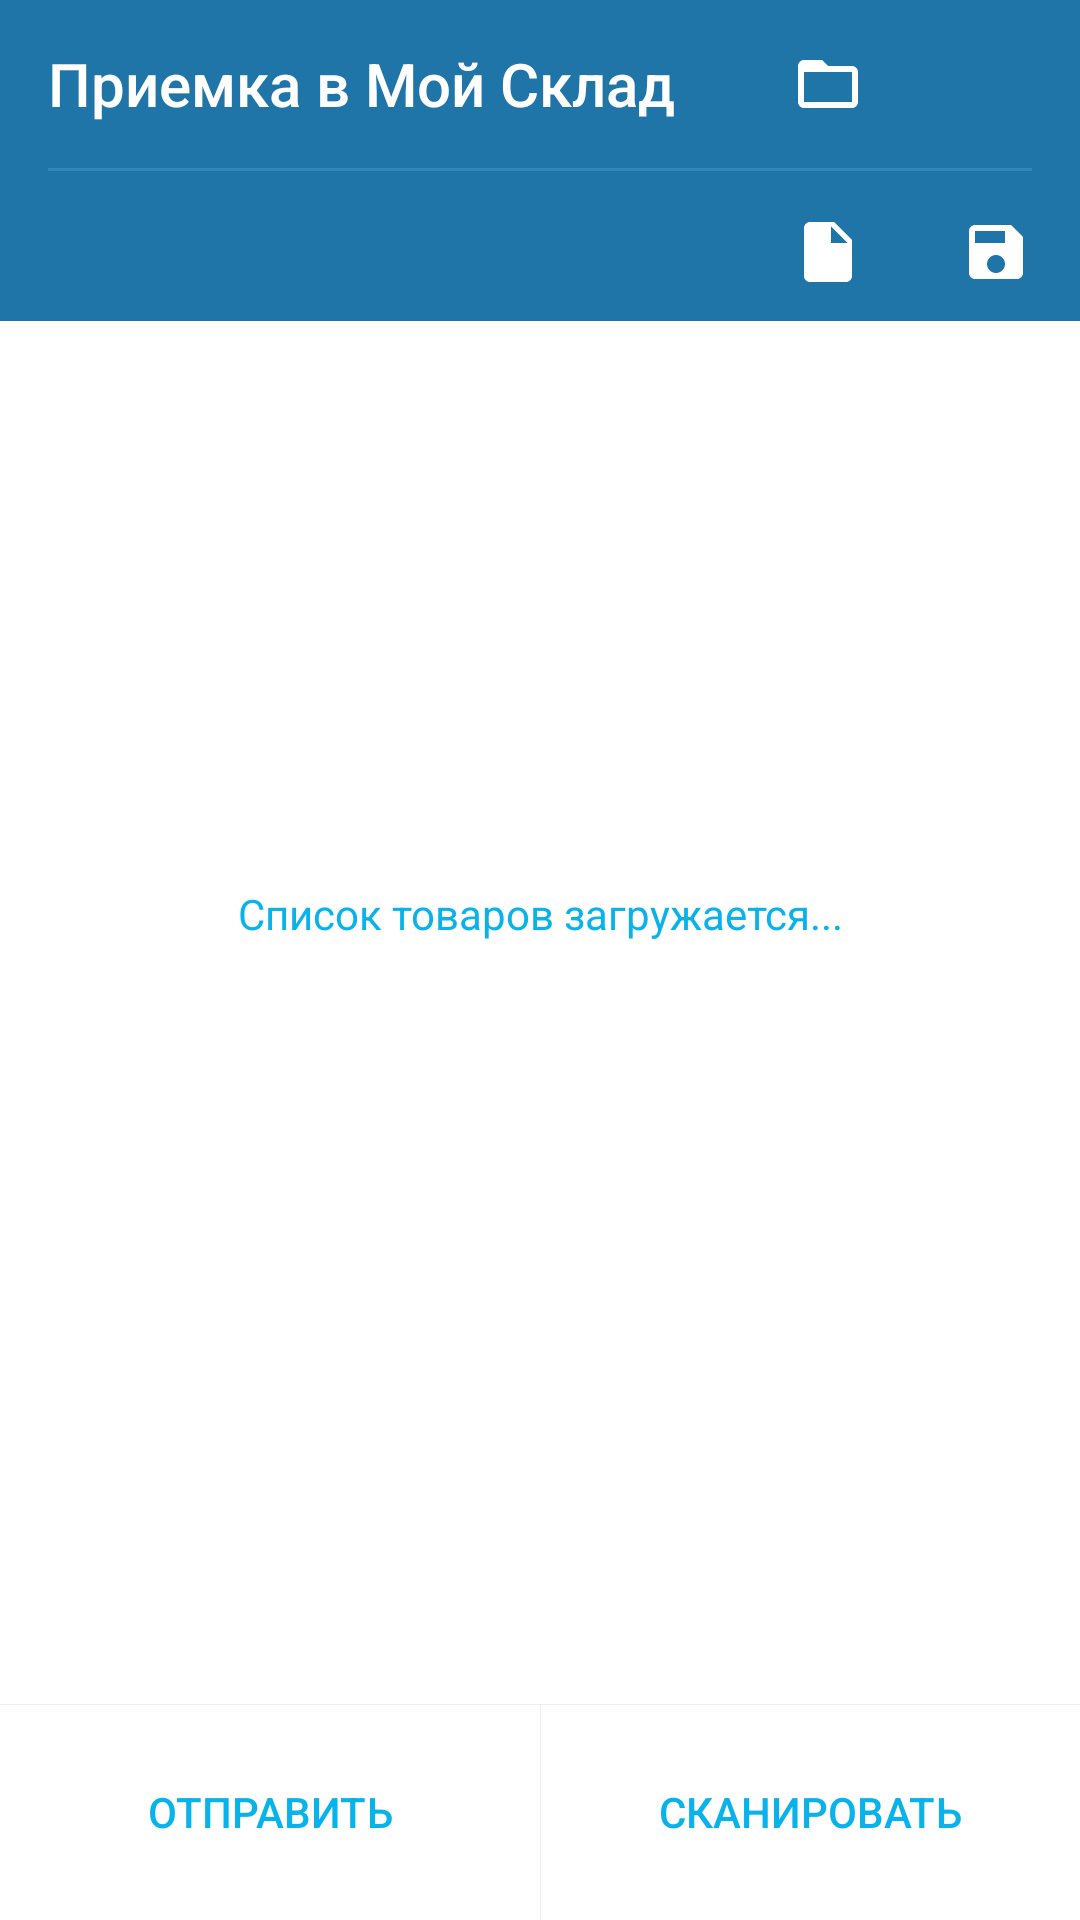

Icons on this 1080w x 1920h Android screen, each with its box as (x1, y1, x2, y2):
folder open: (798, 60, 858, 108)
insert drive file: (804, 222, 852, 282)
